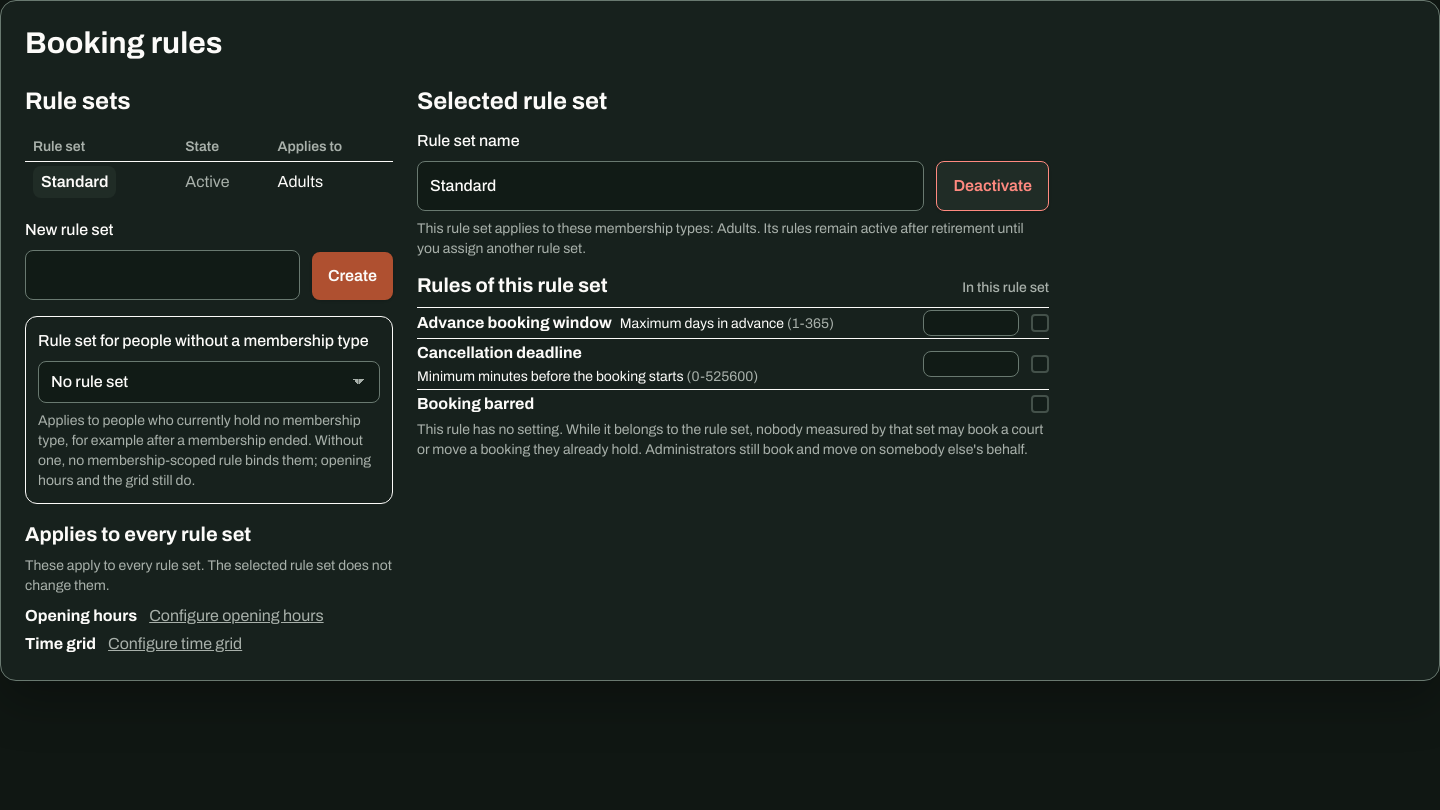
Test: AdminRuleSetsView › given a typed rule set name, when the set is taken out of service, then the typing is still there
Replace the text in the field with test id "rule-set-name" with "Standard plus" at (671,186), box top-left (417, 161), bottom-right (924, 211)
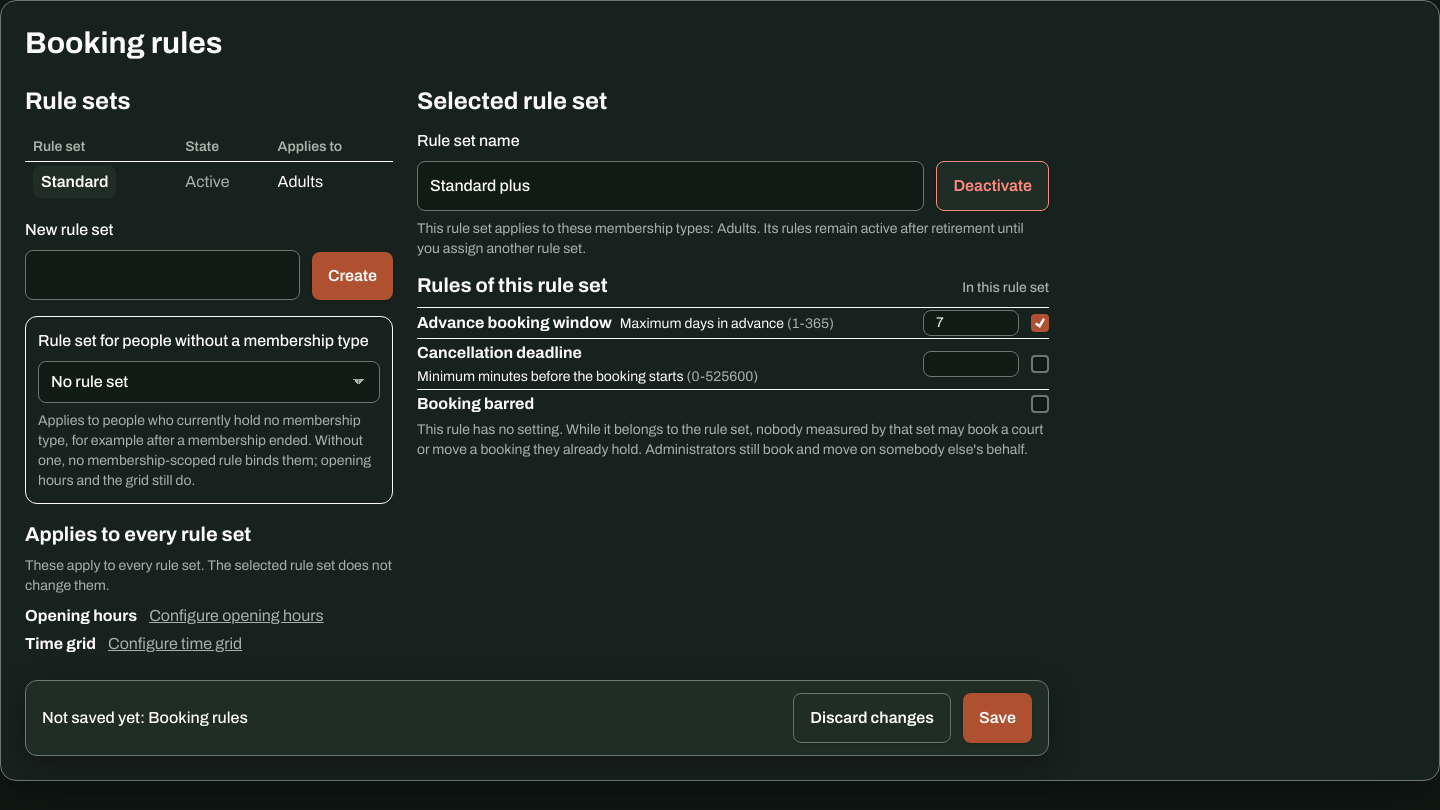
Click the button with test id "toggle-rule-set" at (993,186), box top-left (936, 161), bottom-right (1049, 211)
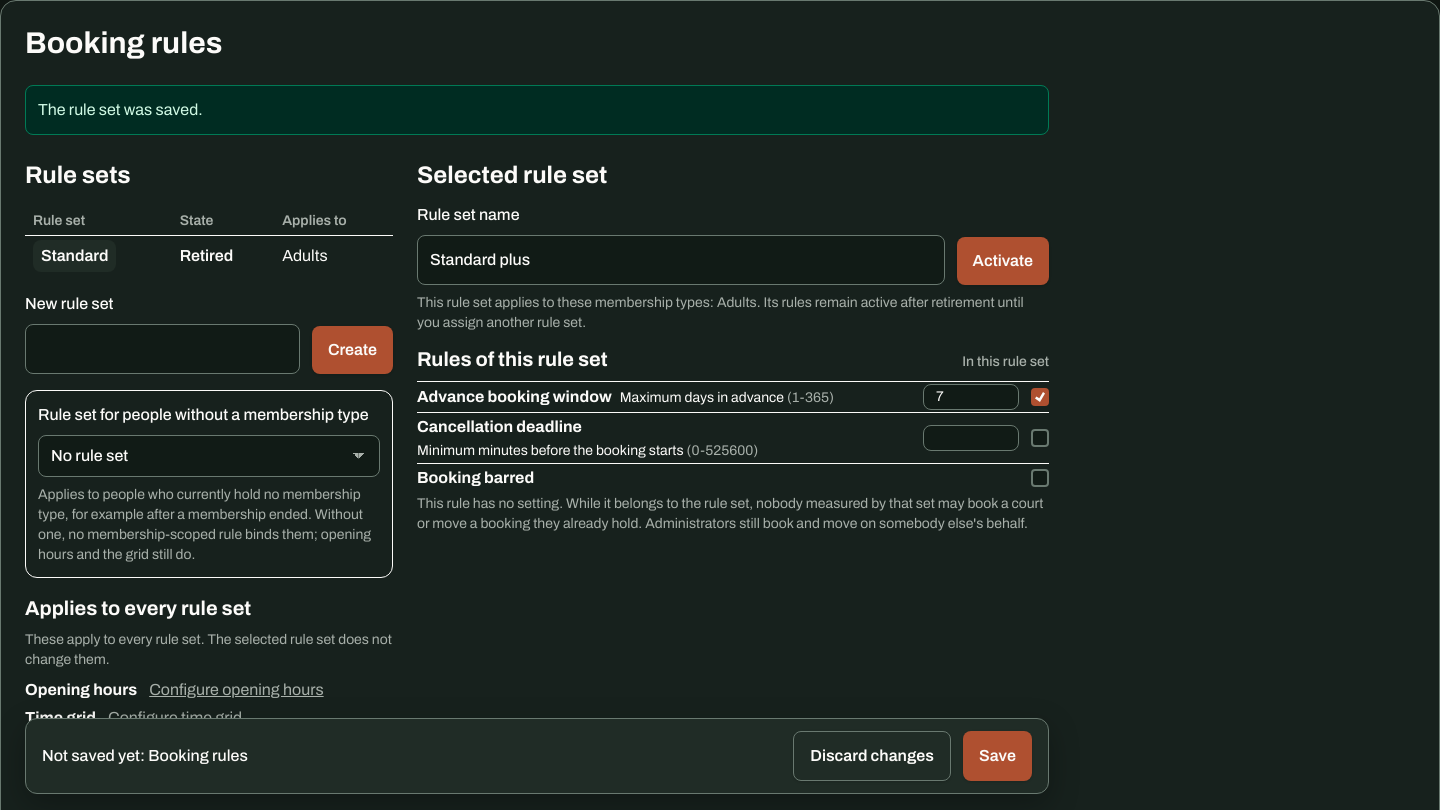
Expected: the text "Not saved yet: Booking rules" is shown, top-left (42, 744), bottom-right (248, 768)
Expected: the button with test id "toggle-rule-set" reads "Activate"
Note: when — the way back is the same change
Click the button with test id "toggle-rule-set" at (1003,261), box top-left (957, 237), bottom-right (1049, 285)
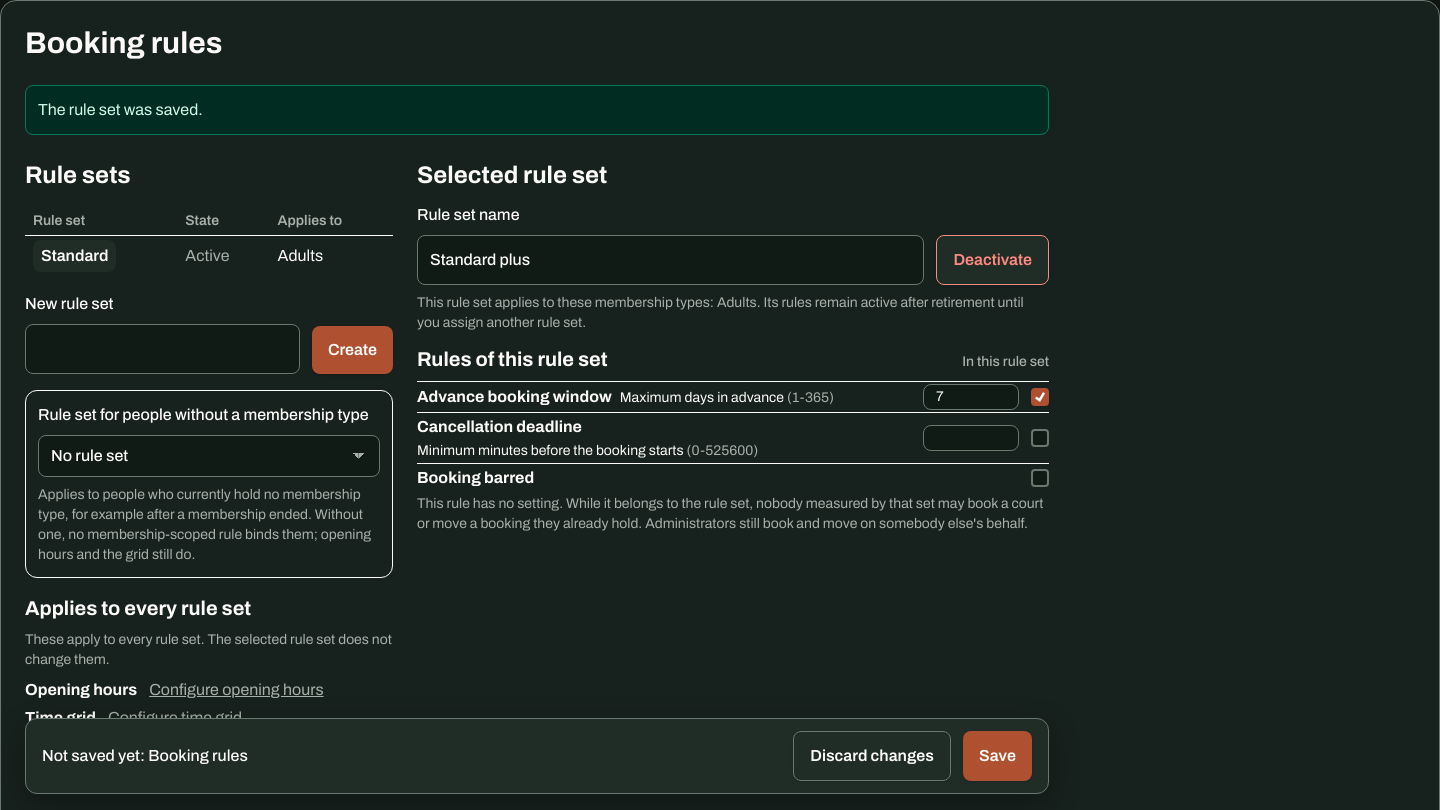
Expected: the text "Not saved yet: Booking rules" is shown, top-left (42, 744), bottom-right (248, 768)
Expected: the button with test id "toggle-rule-set" reads "Deactivate", top-left (936, 235), bottom-right (1049, 285)
